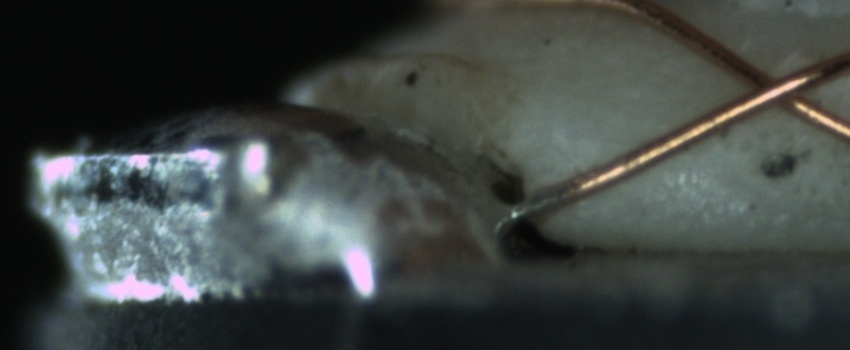CL: (724, 52, 833, 123)
TS: (510, 187, 564, 221)
